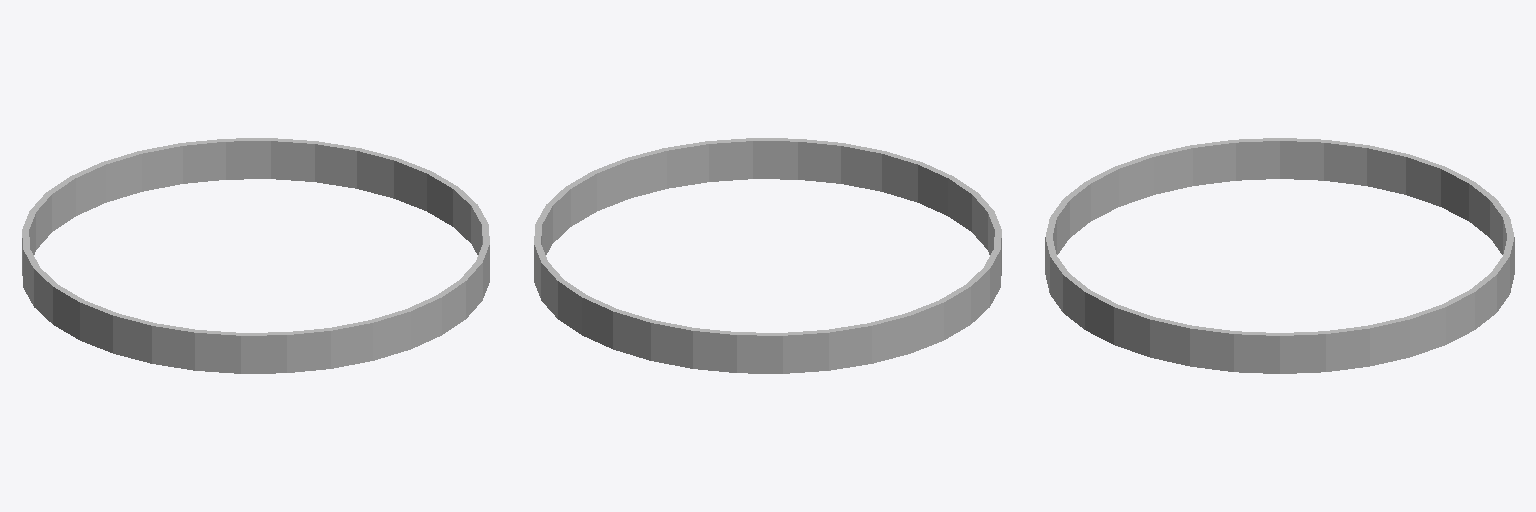
Rendered from deposit.obj.
The picture shows the model from 3 angles: view 1: azimuth 30°, elevation 25°; view 2: azimuth 150°, elevation 25°; view 3: azimuth 270°, elevation 25°; orthographic projection.
Parts seen in each view (by area): view 1: Cylinder; view 2: Cylinder; view 3: Cylinder.
Part boxes in pixels (x1,y1,x2,y2): Cylinder: (22,138,489,373); Cylinder: (534,138,1001,373); Cylinder: (1045,138,1514,373).
Bounding box in the file's own units: 2.93 × 0.2632 × 2.93.